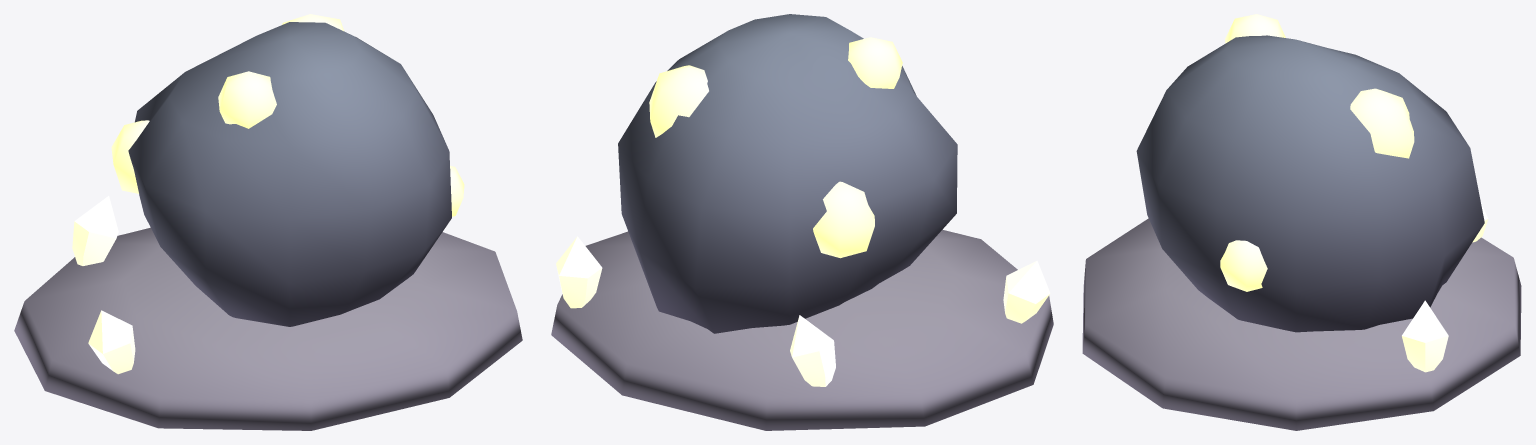
Rendered from s5Meteor.glb.
3 renders of one model, left to right at view 1: azimuth 30°, elevation 25°; view 2: azimuth 150°, elevation 25°; view 3: azimuth 270°, elevation 25°, orthographic.
Parts seen in each view (by area): view 1: Body, Glow_FFB347, Glow_FFE066; view 2: Body, Glow_FFB347, Glow_FFE066; view 3: Body, Glow_FFB347, Glow_FFE066.
Boxes of the visible parts, left/top/right/bottom form: Body: left=14, top=22, right=522, bottom=430; Glow_FFB347: left=111, top=14, right=464, bottom=216; Glow_FFE066: left=72, top=196, right=135, bottom=374; Body: left=551, top=14, right=1053, bottom=430; Glow_FFB347: left=649, top=37, right=902, bottom=258; Glow_FFE066: left=556, top=236, right=1050, bottom=386; Body: left=1082, top=35, right=1521, bottom=430; Glow_FFB347: left=1220, top=14, right=1414, bottom=291; Glow_FFE066: left=1402, top=203, right=1488, bottom=372.
Bounding box in the file's own units: 5.24 × 3.59 × 4.43.
